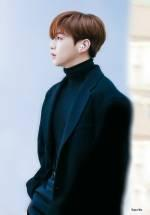earphone: (76, 43, 87, 51)
